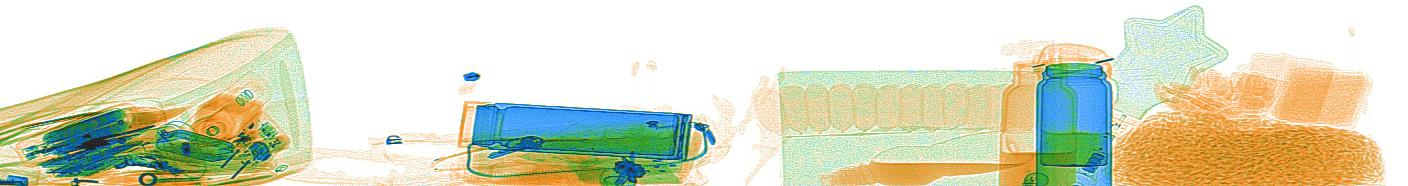plasticBottleWithaNozzle: (177, 65, 273, 154)
